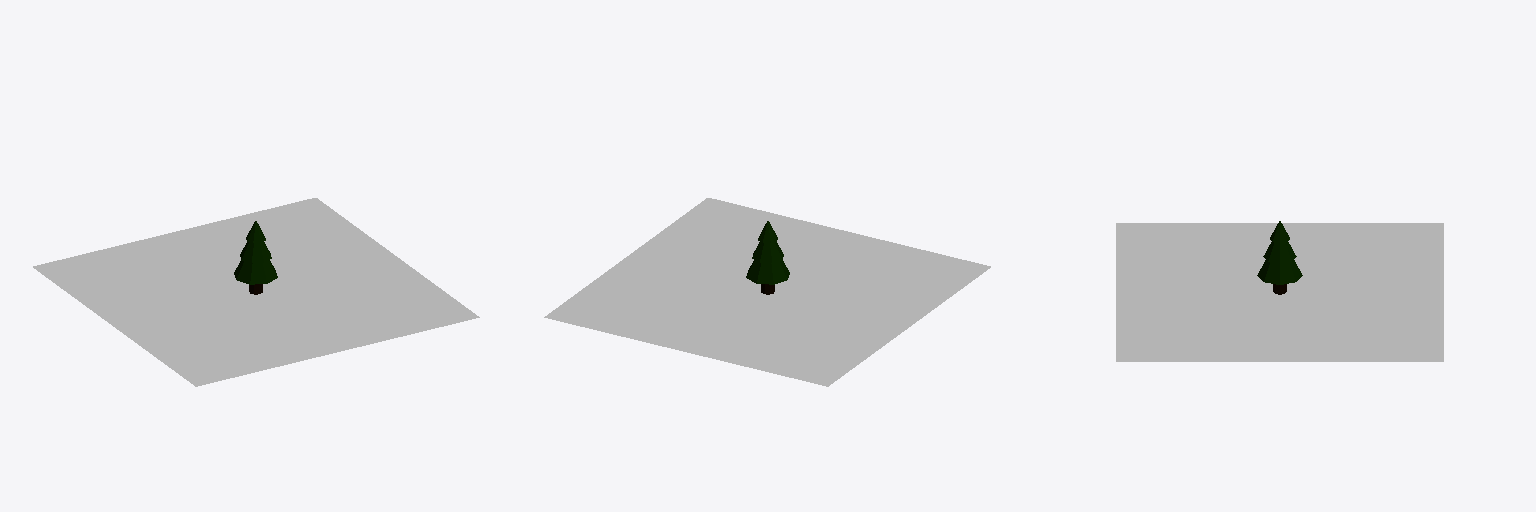
Rendered from CartoonTree.obj.
3 views of the same model, side by side, from view 1: azimuth 30°, elevation 25°; view 2: azimuth 150°, elevation 25°; view 3: azimuth 270°, elevation 25° (orthographic).
Visible parts, largest first — view 1: Plane, Cone, Cone.001; view 2: Plane, Cone, Cone.001; view 3: Plane, Cone, Cone.001.
Part boxes in pixels (left/top/right/bottom): Plane: left=33, top=198, right=479, bottom=386; Cone: left=234, top=260, right=277, bottom=284; Cone.001: left=240, top=242, right=271, bottom=262; Plane: left=544, top=198, right=990, bottom=386; Cone: left=746, top=260, right=789, bottom=284; Cone.001: left=752, top=242, right=783, bottom=262; Plane: left=1116, top=223, right=1443, bottom=361; Cone: left=1257, top=260, right=1302, bottom=284; Cone.001: left=1263, top=242, right=1296, bottom=263.
Bounding box in the file's own units: 30 × 7.29 × 30.